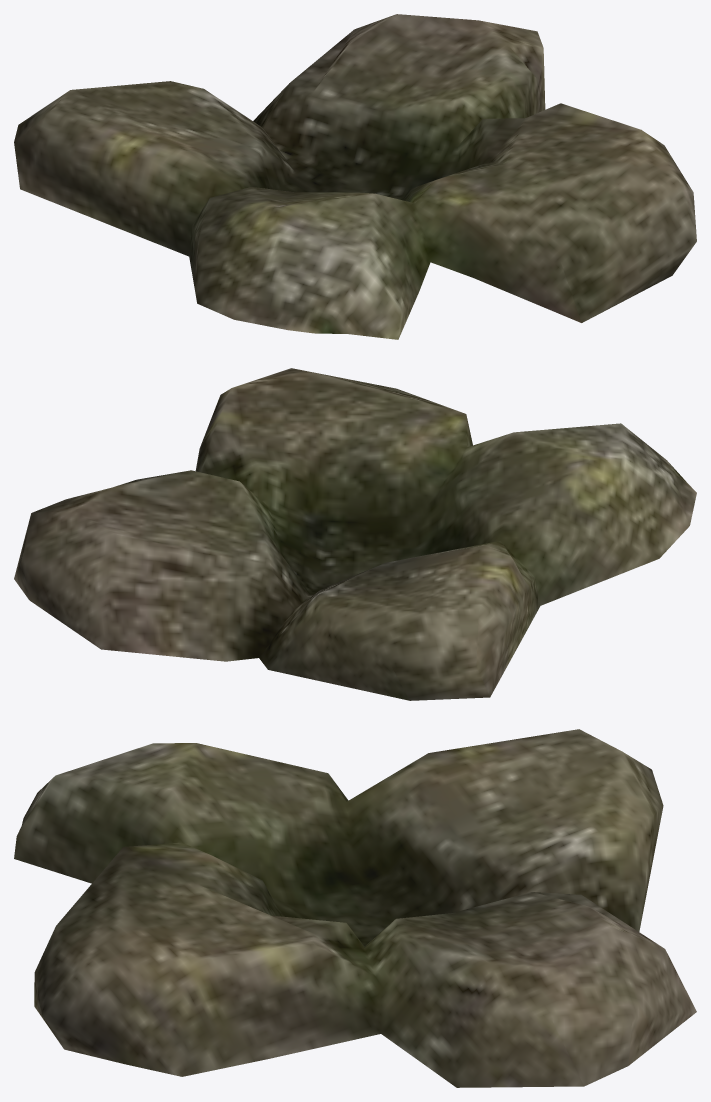
The model's file is Lantern_Floor_A-transformed.glb.
3 views of the same model, one above another, from view 1: azimuth 30°, elevation 25°; view 2: azimuth 150°, elevation 25°; view 3: azimuth 270°, elevation 25° (orthographic). The views are drawn at different scales.
Parts seen in each view (by area): view 1: default; view 2: default; view 3: default.
Part boxes in pixels (x1,y1,x2,y2): default: (14, 14, 696, 339); default: (14, 368, 696, 700); default: (14, 729, 696, 1087).
Bounding box in the file's own units: 0.9109 × 0.2092 × 0.958.
1 material, 1 textured.
